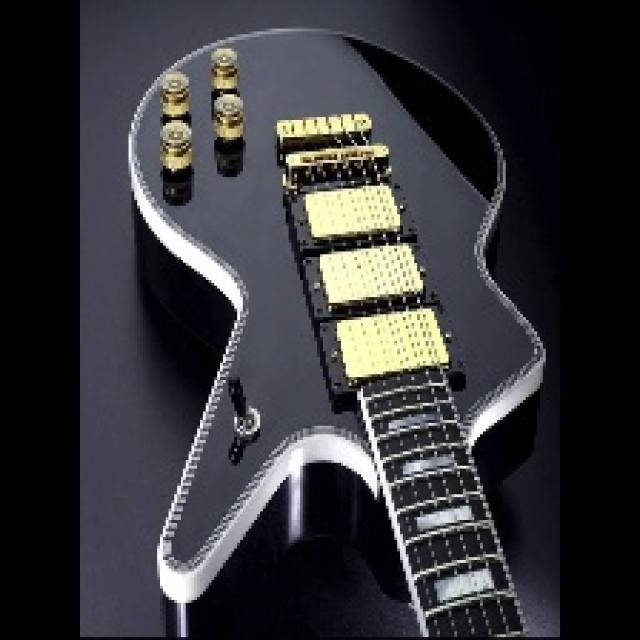guitar: (122, 25, 557, 639)
